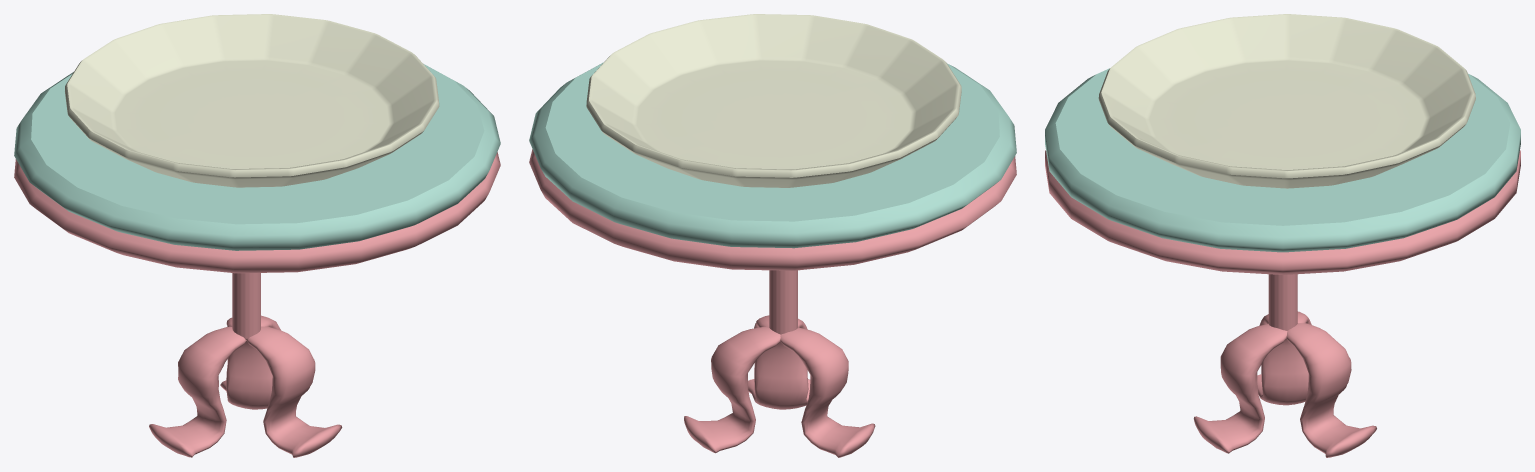
File: table.fbx
The picture shows the model from 3 angles, left to right: view 1: azimuth 30°, elevation 25°; view 2: azimuth 150°, elevation 25°; view 3: azimuth 270°, elevation 25°; orthographic projection.
Parts seen in each view (by area): view 1: table; view 2: table; view 3: table.
Part boxes in pixels (x1,y1,x2,y2): table: (14, 14, 500, 457); table: (529, 14, 1016, 457); table: (1045, 14, 1520, 457).
Bounding box in the file's own units: 3.98 × 3.03 × 3.86.
